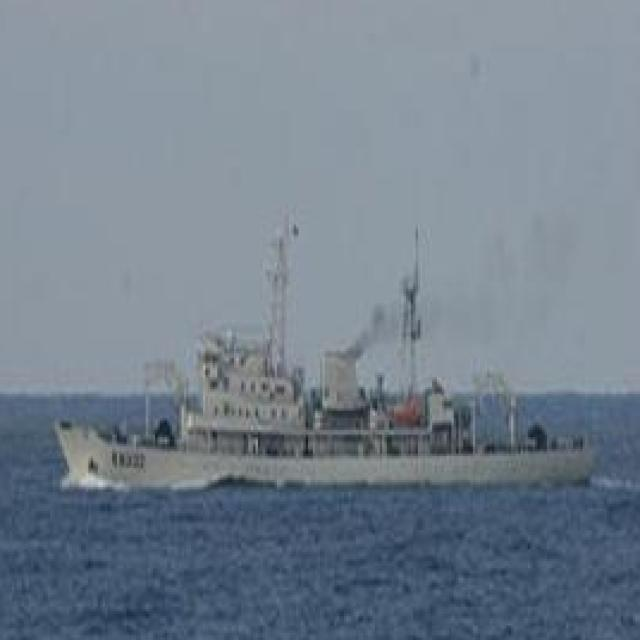navalvessels: (0, 160, 585, 497)
